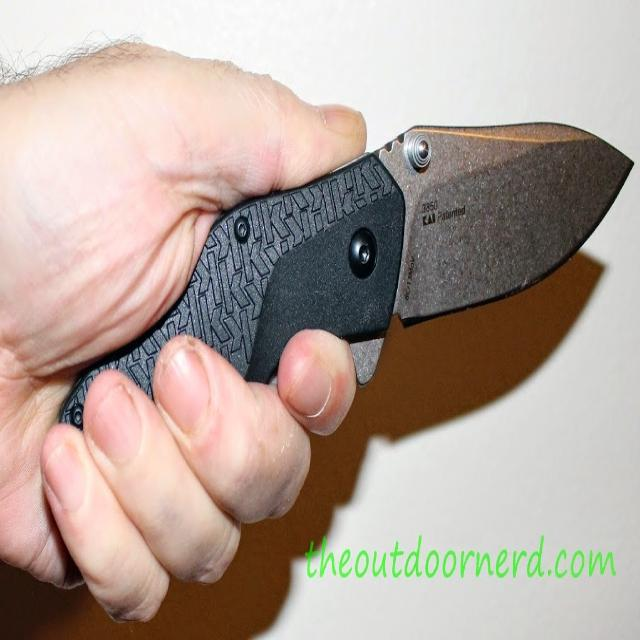knife: (187, 96, 639, 387)
